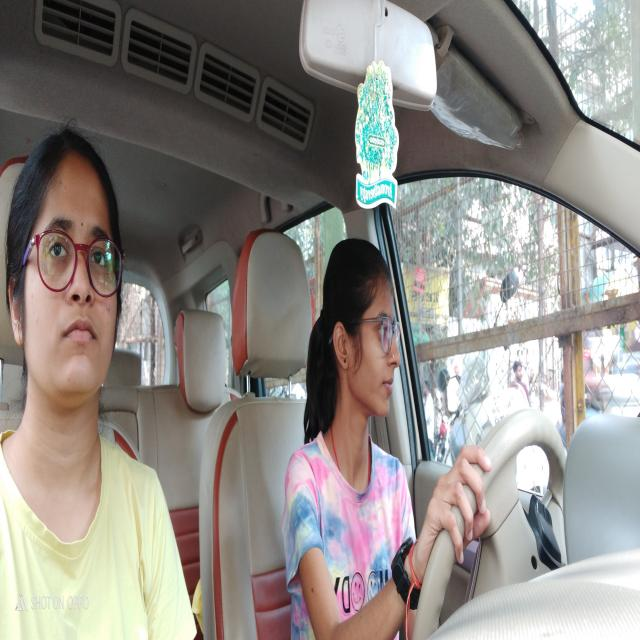LeftRight: (326, 237, 404, 417)
person: (7, 128, 128, 404)
